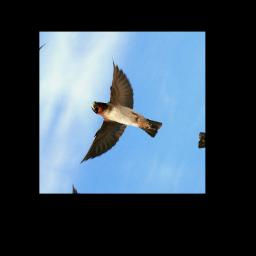Swallow: (71, 56, 181, 179)
